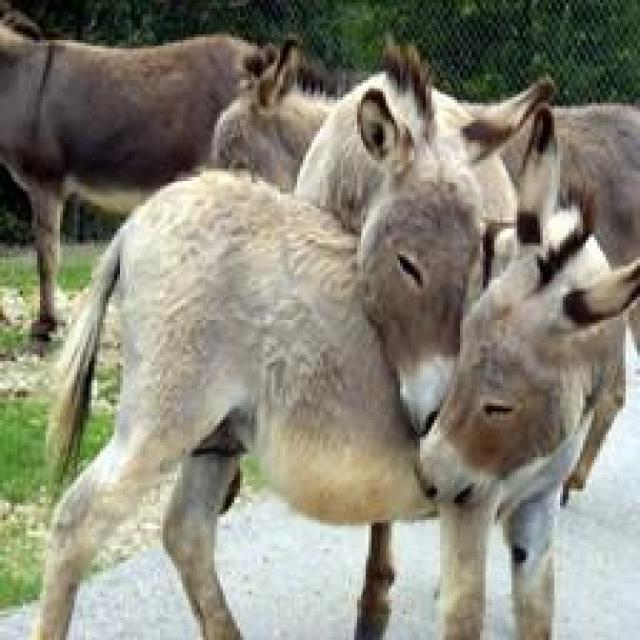Donkey: (17, 40, 557, 637), (209, 34, 637, 506), (414, 183, 637, 637), (0, 6, 266, 348)
